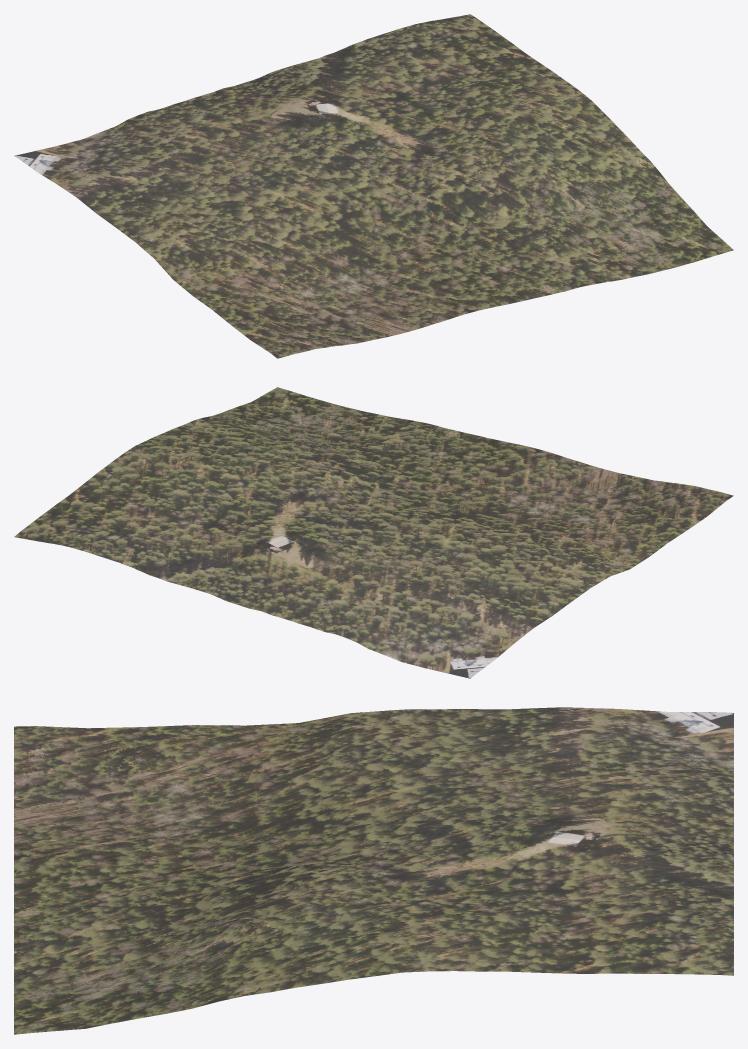
The model's file is CM_Terrain_24491073_6816722.fbx.
3 renders of one model, top to bottom at view 1: azimuth 30°, elevation 25°; view 2: azimuth 150°, elevation 25°; view 3: azimuth 270°, elevation 25°, orthographic. The views are drawn at different scales.
Visible parts, largest first — view 1: CM_Terrain_24491073_6816722_LOD0; view 2: CM_Terrain_24491073_6816722_LOD0; view 3: CM_Terrain_24491073_6816722_LOD0.
Part boxes in pixels (bbox=[...]): CM_Terrain_24491073_6816722_LOD0: bbox=[14, 14, 733, 358]; CM_Terrain_24491073_6816722_LOD0: bbox=[14, 387, 733, 678]; CM_Terrain_24491073_6816722_LOD0: bbox=[14, 707, 733, 1034].
Size of what is drawn, in the model's own units: 205 by 21.56 by 205.
